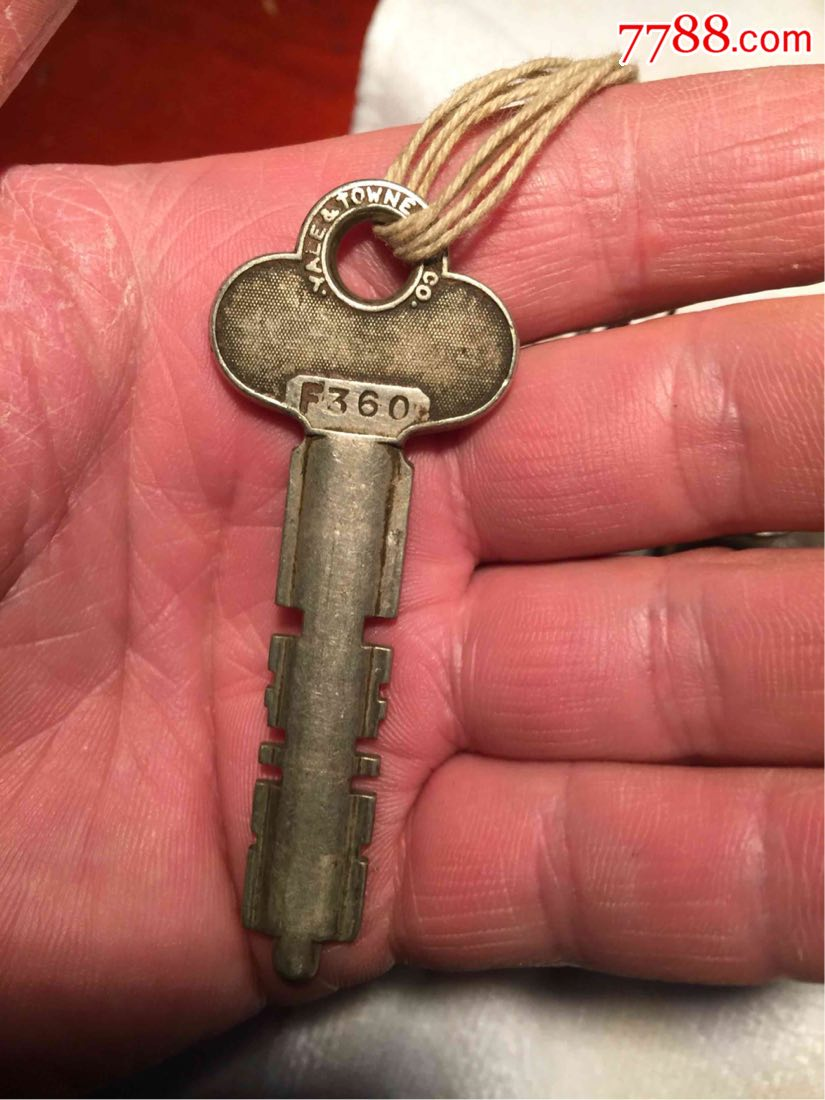key: (195, 171, 523, 989)
